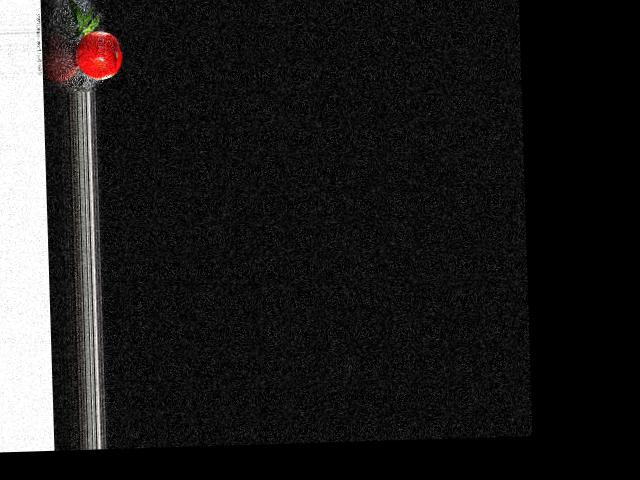tomato: (75, 30, 122, 80)
